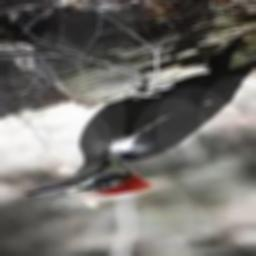Woodpecker: (27, 42, 256, 200)
